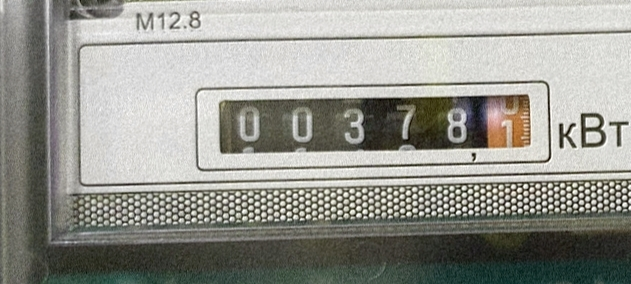0: (233, 104, 261, 145), (286, 106, 312, 146), (495, 96, 517, 118)
1: (494, 118, 514, 150)
3: (337, 107, 364, 148)
7: (390, 104, 414, 143)
8: (441, 107, 466, 147)
screen: (195, 73, 548, 172)
